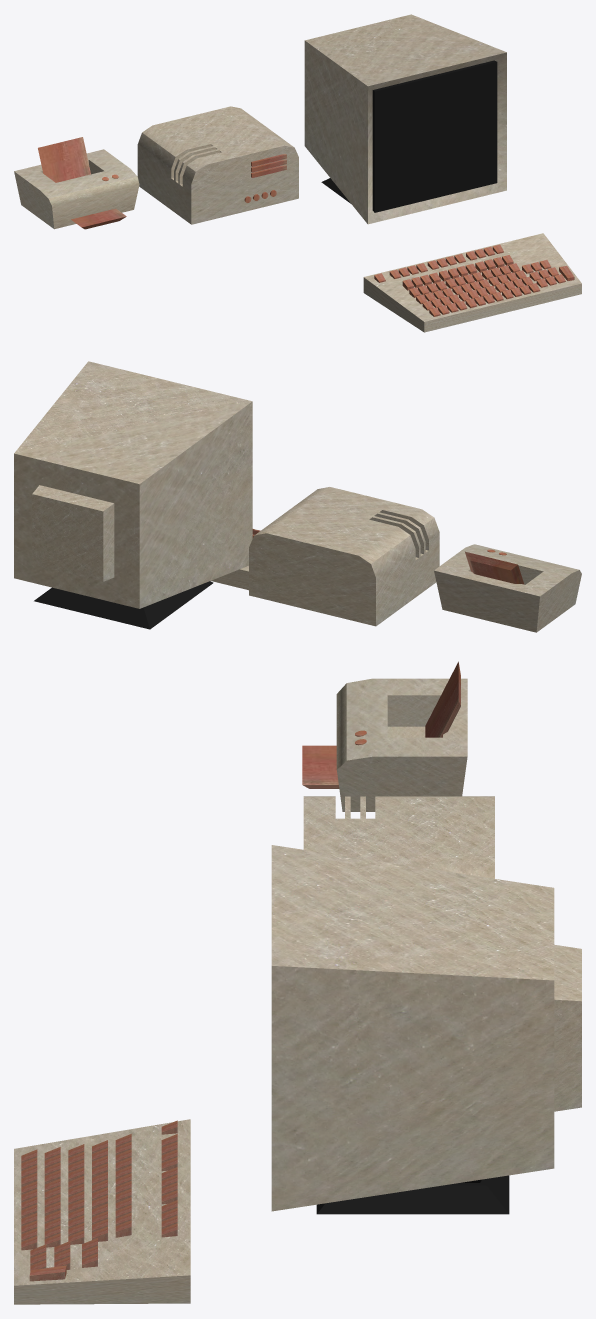
File: computador.fbx
3 renders of one model, top to bottom at view 1: azimuth 30°, elevation 25°; view 2: azimuth 150°, elevation 25°; view 3: azimuth 270°, elevation 25°, orthographic. The views are drawn at different scales.
Parts seen in each view (by area): view 1: polySurface82, pCube561, polySurface87, pCube558, polySurface88, pCube664, pCube665; view 2: polySurface82, polySurface87, polySurface88, polySurface83, pCube559, pCube664, pCube558; view 3: polySurface82, pCube558, polySurface88, polySurface87, pCube559, polySurface83, pCube665, pCube664.
Boxes of the visible parts, x1,y1,x2,y2 form: polySurface82: [304, 14, 506, 224]; pCube561: [372, 60, 497, 212]; polySurface87: [137, 106, 298, 224]; pCube558: [363, 233, 581, 332]; polySurface88: [14, 149, 139, 229]; pCube664: [38, 137, 90, 182]; pCube665: [71, 208, 126, 229]; polySurface82: [14, 361, 252, 608]; polySurface87: [249, 487, 439, 626]; polySurface88: [434, 544, 581, 632]; polySurface83: [32, 485, 114, 581]; pCube559: [34, 581, 213, 629]; pCube664: [465, 551, 524, 584]; pCube558: [211, 529, 258, 590]; polySurface82: [271, 845, 554, 1211]; pCube558: [14, 1119, 190, 1304]; polySurface88: [336, 678, 467, 811]; polySurface87: [303, 796, 494, 878]; pCube559: [316, 1175, 509, 1214]; polySurface83: [554, 944, 581, 1111]; pCube665: [302, 745, 339, 788]; pCube664: [425, 661, 460, 737].
Size of the model in its own units: 5.61 by 2.25 by 3.44.
